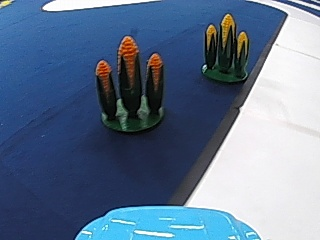corn: (92, 39, 168, 133), (200, 10, 250, 81)
